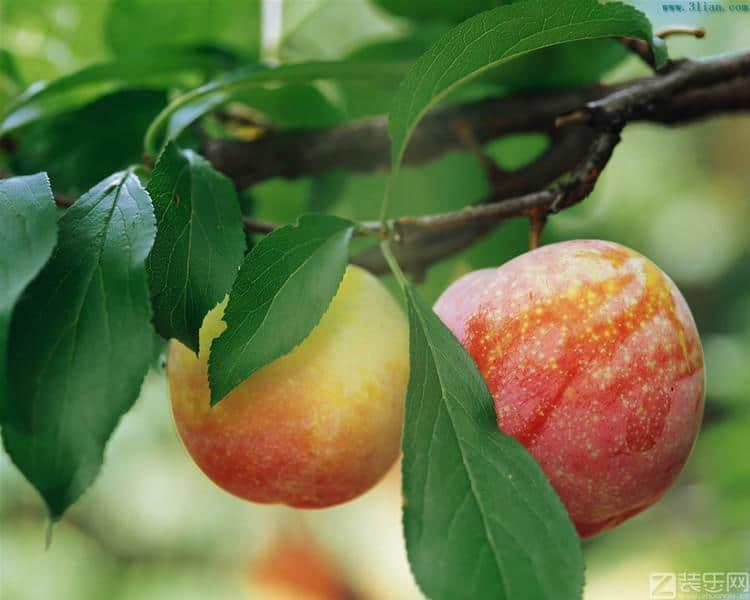apple: (435, 238, 705, 537), (167, 270, 408, 509)
